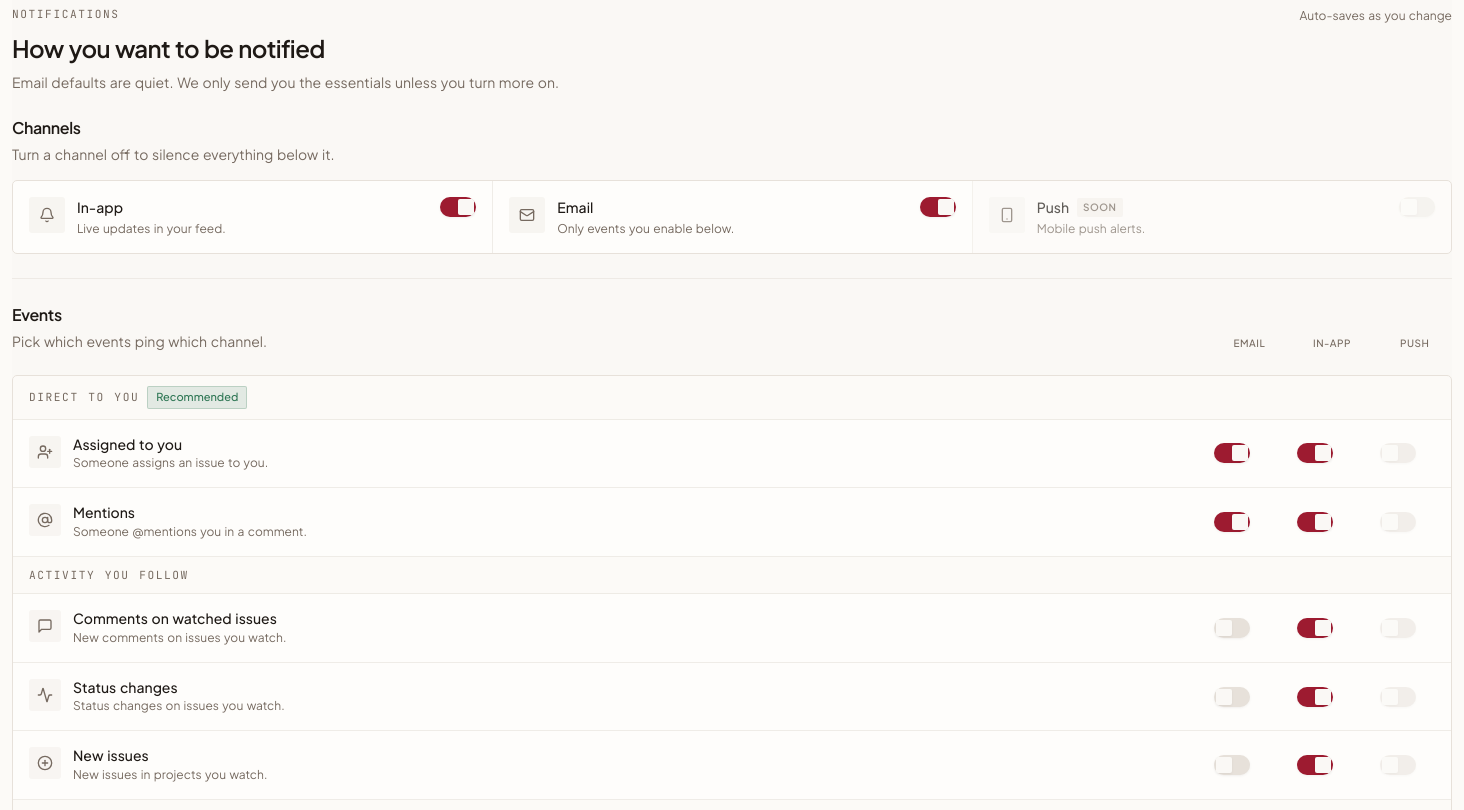
Test: NotificationPreferences › shows Saving chip during POST, then Saved briefly after success
Click the 1st switch named "comments on watched issues". click: [1232, 628]
box: x1=1214 y1=618 x2=1250 y2=638
Wait 400 ms
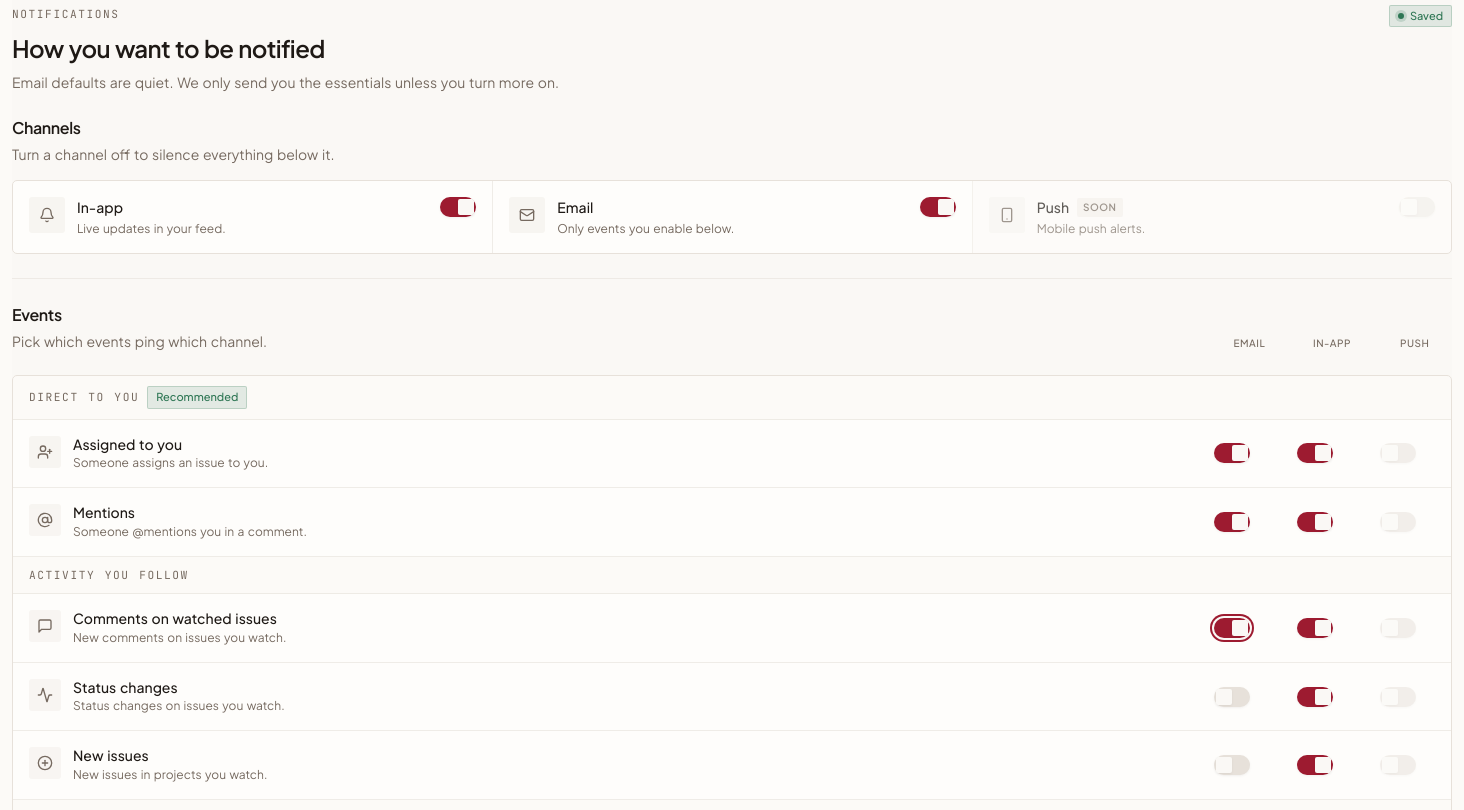
Expected: the text "Saved" is shown, x1=1389 y1=5 x2=1452 y2=27
